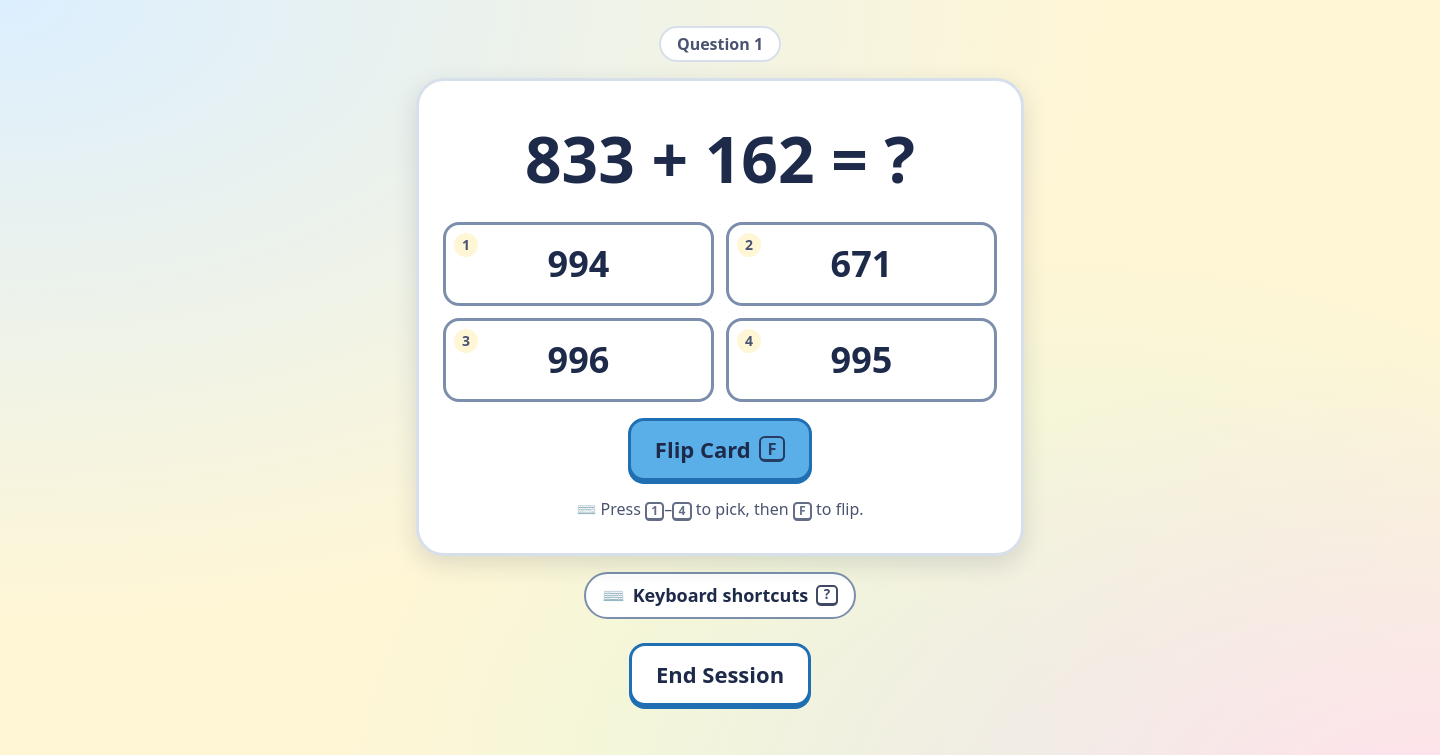
Test: PracticeSessionPage › goes back to setup without asking when ending before any answers
(page scrolled)
Click the button "End Session" at [720, 674], box [629,643,811,706]
(page scrolled)
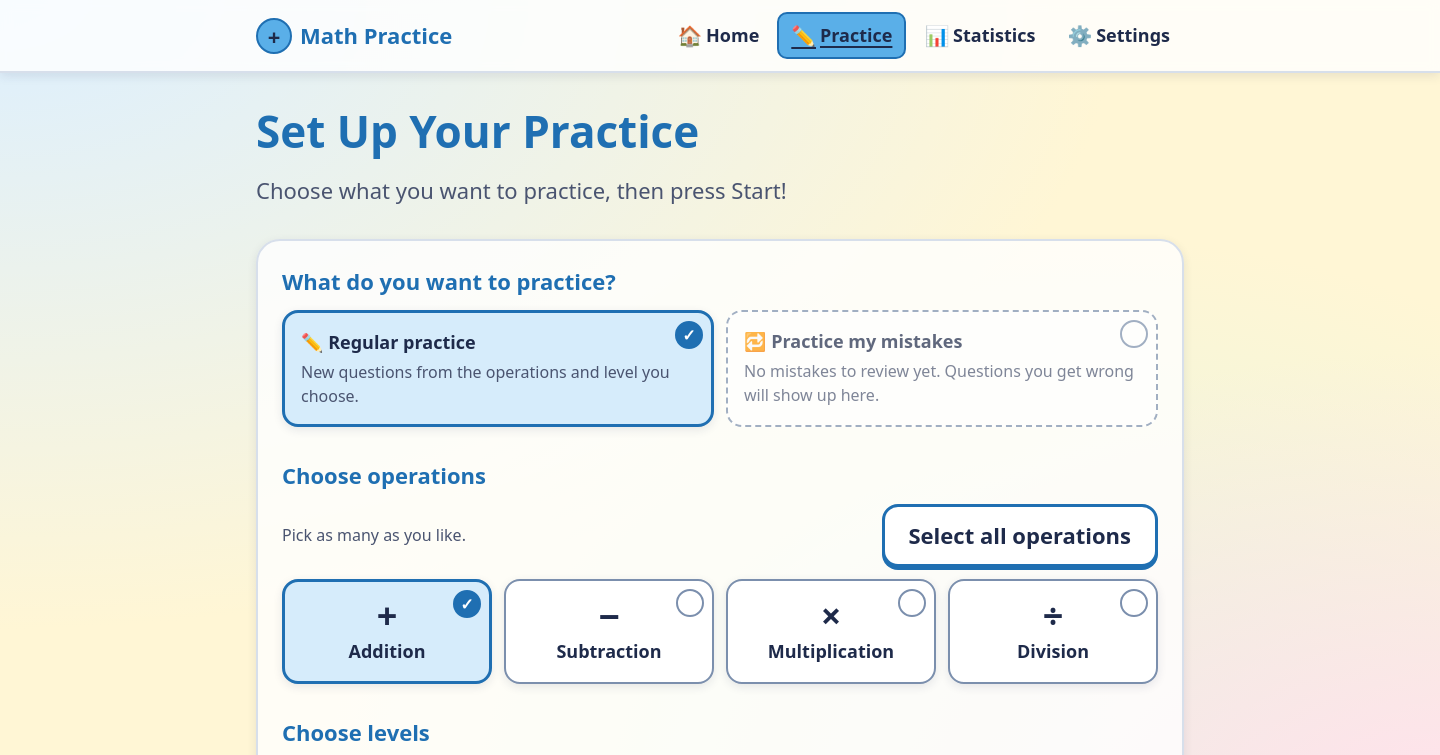
expect the heading "Set Up Your Practice" is shown: met, box [256,101,699,161]
